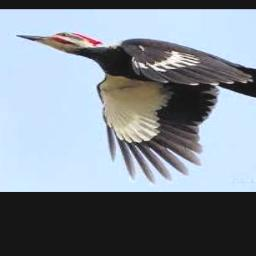Woodpecker: (15, 31, 256, 184)
